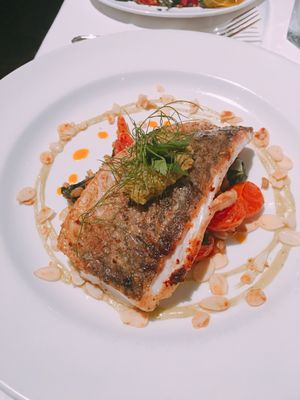burger: (213, 4, 263, 38)
pizza: (286, 0, 300, 52)
soup: (33, 94, 258, 320)
